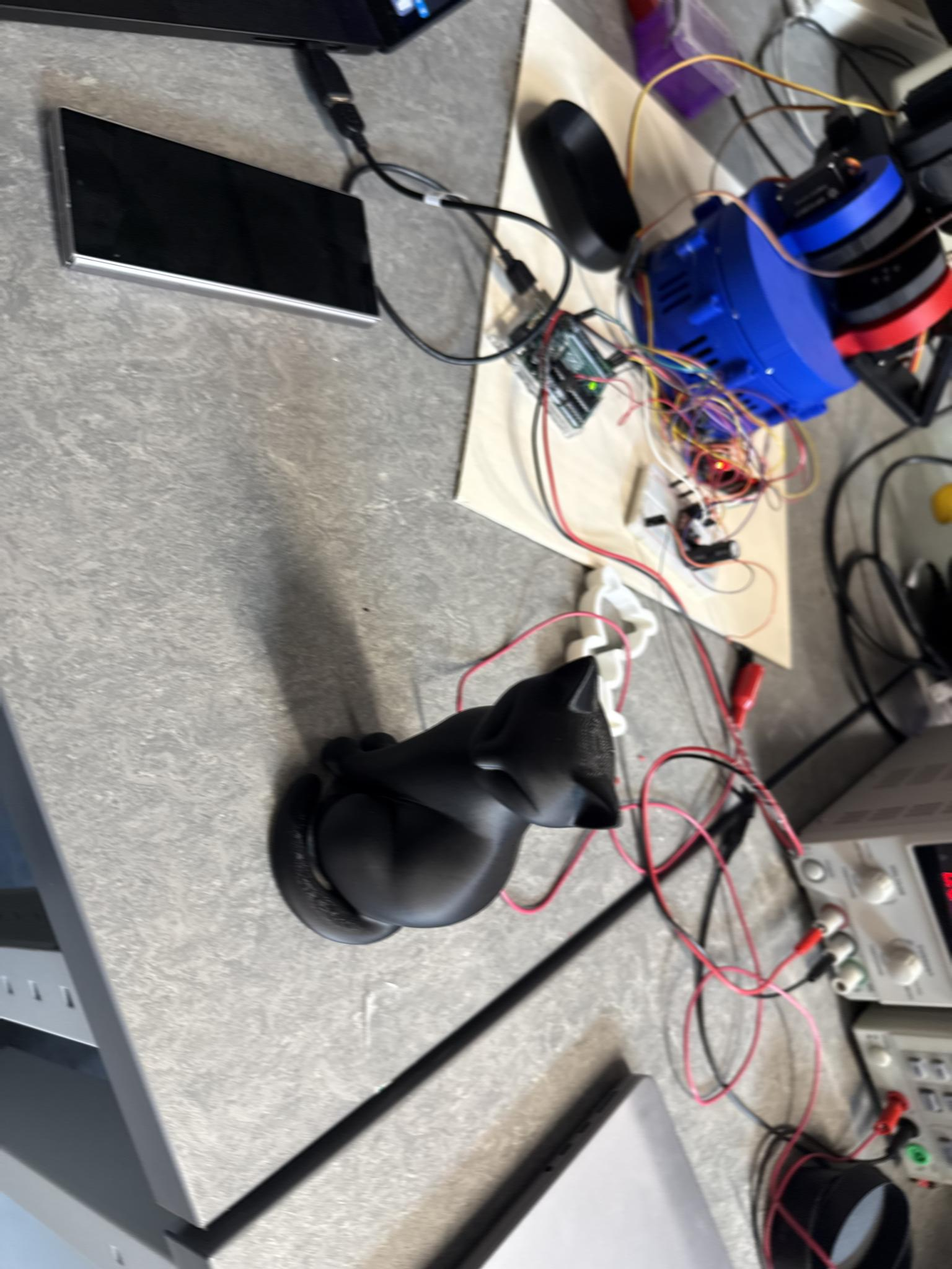cat: (269, 656, 620, 944)
